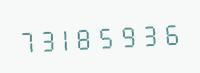eight: (80, 21, 100, 52)
five: (101, 19, 121, 51)
nine: (122, 18, 142, 50)
one: (59, 22, 79, 54)
seven: (17, 24, 37, 56)
six: (164, 16, 184, 48)
three: (38, 23, 58, 55), (143, 17, 163, 49)
